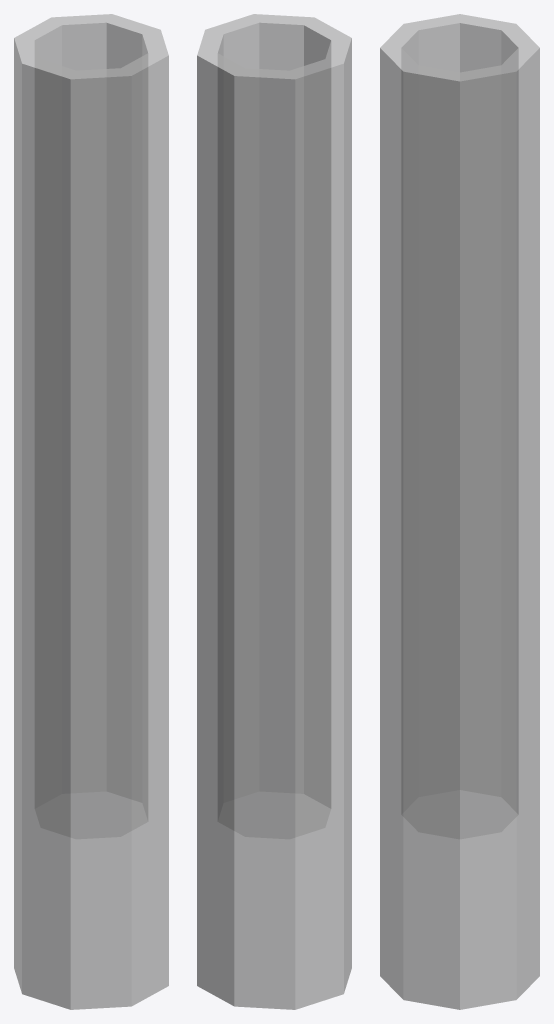
File: flask2.glb
3 views of the same model, side by side, from view 1: azimuth 30°, elevation 25°; view 2: azimuth 150°, elevation 25°; view 3: azimuth 270°, elevation 25° (orthographic).
Visible parts, largest first — view 1: pCylinder1; view 2: pCylinder1; view 3: pCylinder1.
Part boxes in pixels (<box>): pCylinder1: <box>14,14,168,1009</box>; pCylinder1: <box>197,14,351,1009</box>; pCylinder1: <box>380,14,539,1009</box>.
Size of the model in its own units: 0.00537 by 0.0344 by 0.00537.
1 material, 1 textured.
